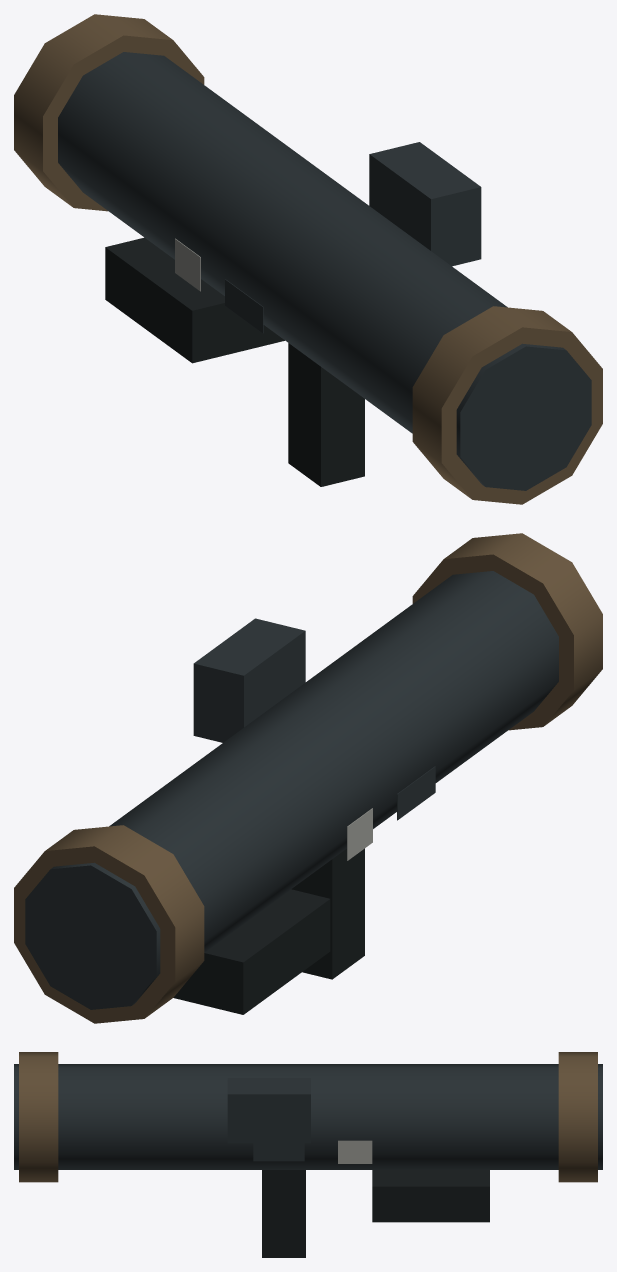
3 views of the same model, one above another, from view 1: azimuth 30°, elevation 25°; view 2: azimuth 150°, elevation 25°; view 3: azimuth 270°, elevation 25° (orthographic). The views are drawn at different scales.
Visible parts, largest first — view 1: weapon-rocket-launcher-painted; view 2: weapon-rocket-launcher-painted; view 3: weapon-rocket-launcher-painted.
Part boxes in pixels (box(x1,y1,x2,y2)): weapon-rocket-launcher-painted: box(14, 14, 602, 504); weapon-rocket-launcher-painted: box(14, 533, 602, 1023); weapon-rocket-launcher-painted: box(14, 1052, 602, 1257).
Bounding box in the file's own units: 1.74 × 2.38 × 6.58.
